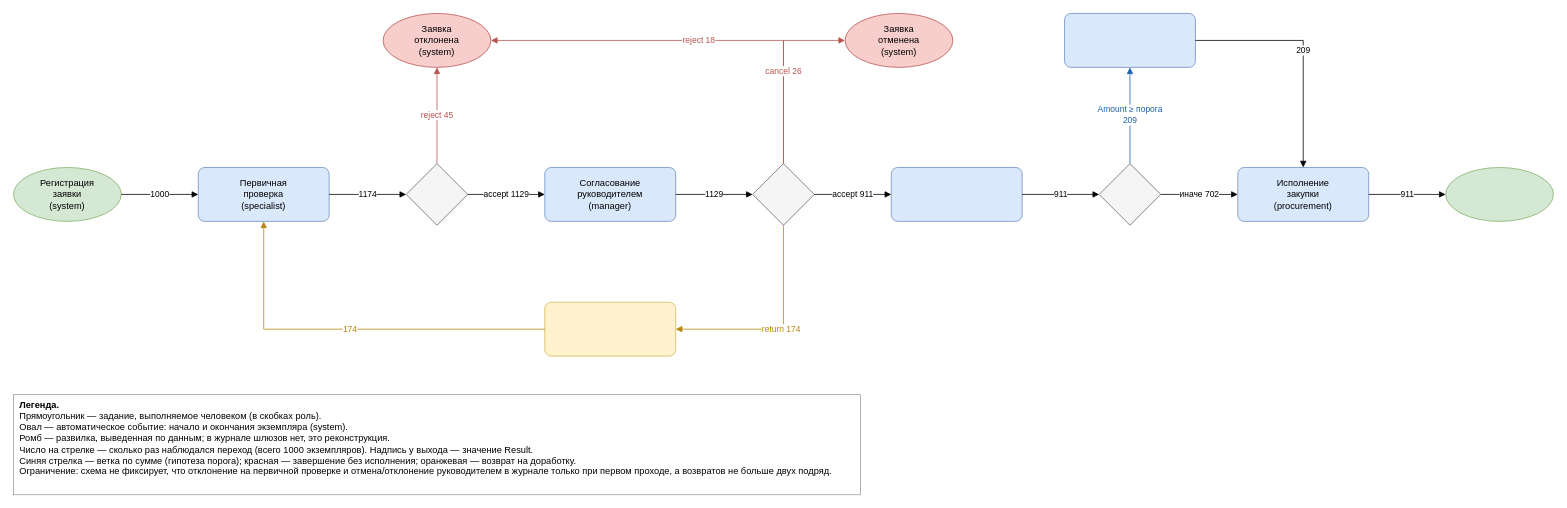
This 1567x508 diagram has some shape labels left out. The shapes that lost their labels are listed below. From the top down, each one's box as (x1, y1, x2, y2) in pixels, then its label:
(1064, 13, 1195, 67): Дополнительное согласование (director)
(891, 167, 1022, 221): Проверка бюджета (finance)
(1445, 167, 1553, 221): Заявка выполнена (system)
(544, 301, 676, 356): Доработка заявки (requester)
